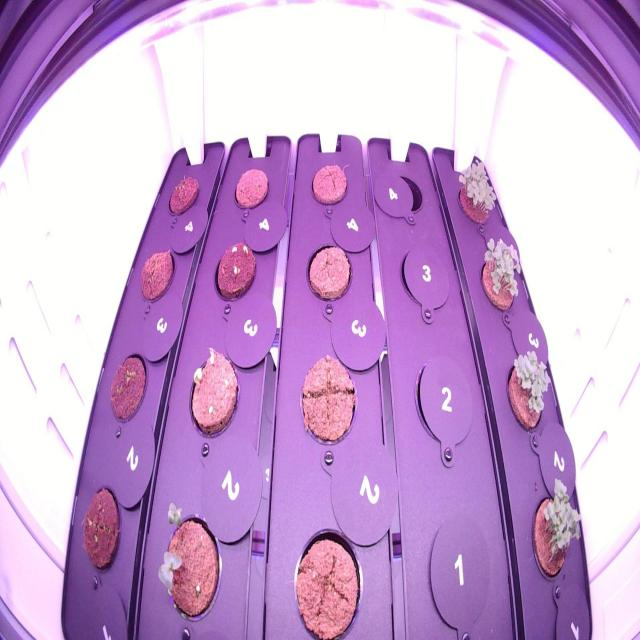empty_pod: (422, 509, 495, 639), (409, 347, 478, 456), (396, 238, 453, 316), (380, 163, 427, 224)
germination: (150, 494, 227, 628), (528, 470, 586, 594), (185, 343, 242, 444), (504, 345, 556, 442), (474, 231, 527, 322), (450, 153, 502, 236), (211, 235, 260, 307)
pod: (286, 518, 366, 639), (293, 349, 361, 456), (78, 479, 128, 589), (104, 346, 153, 434), (300, 235, 356, 311), (135, 240, 177, 310), (306, 157, 354, 213), (229, 162, 272, 217), (166, 166, 202, 222)
